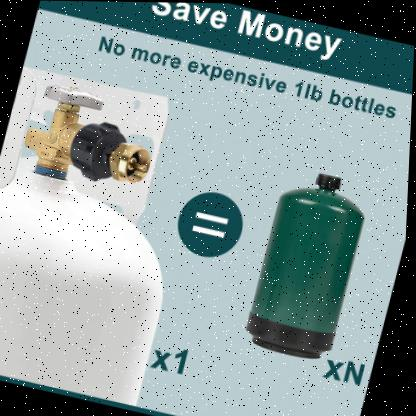gas-tank: (0, 62, 239, 415)
